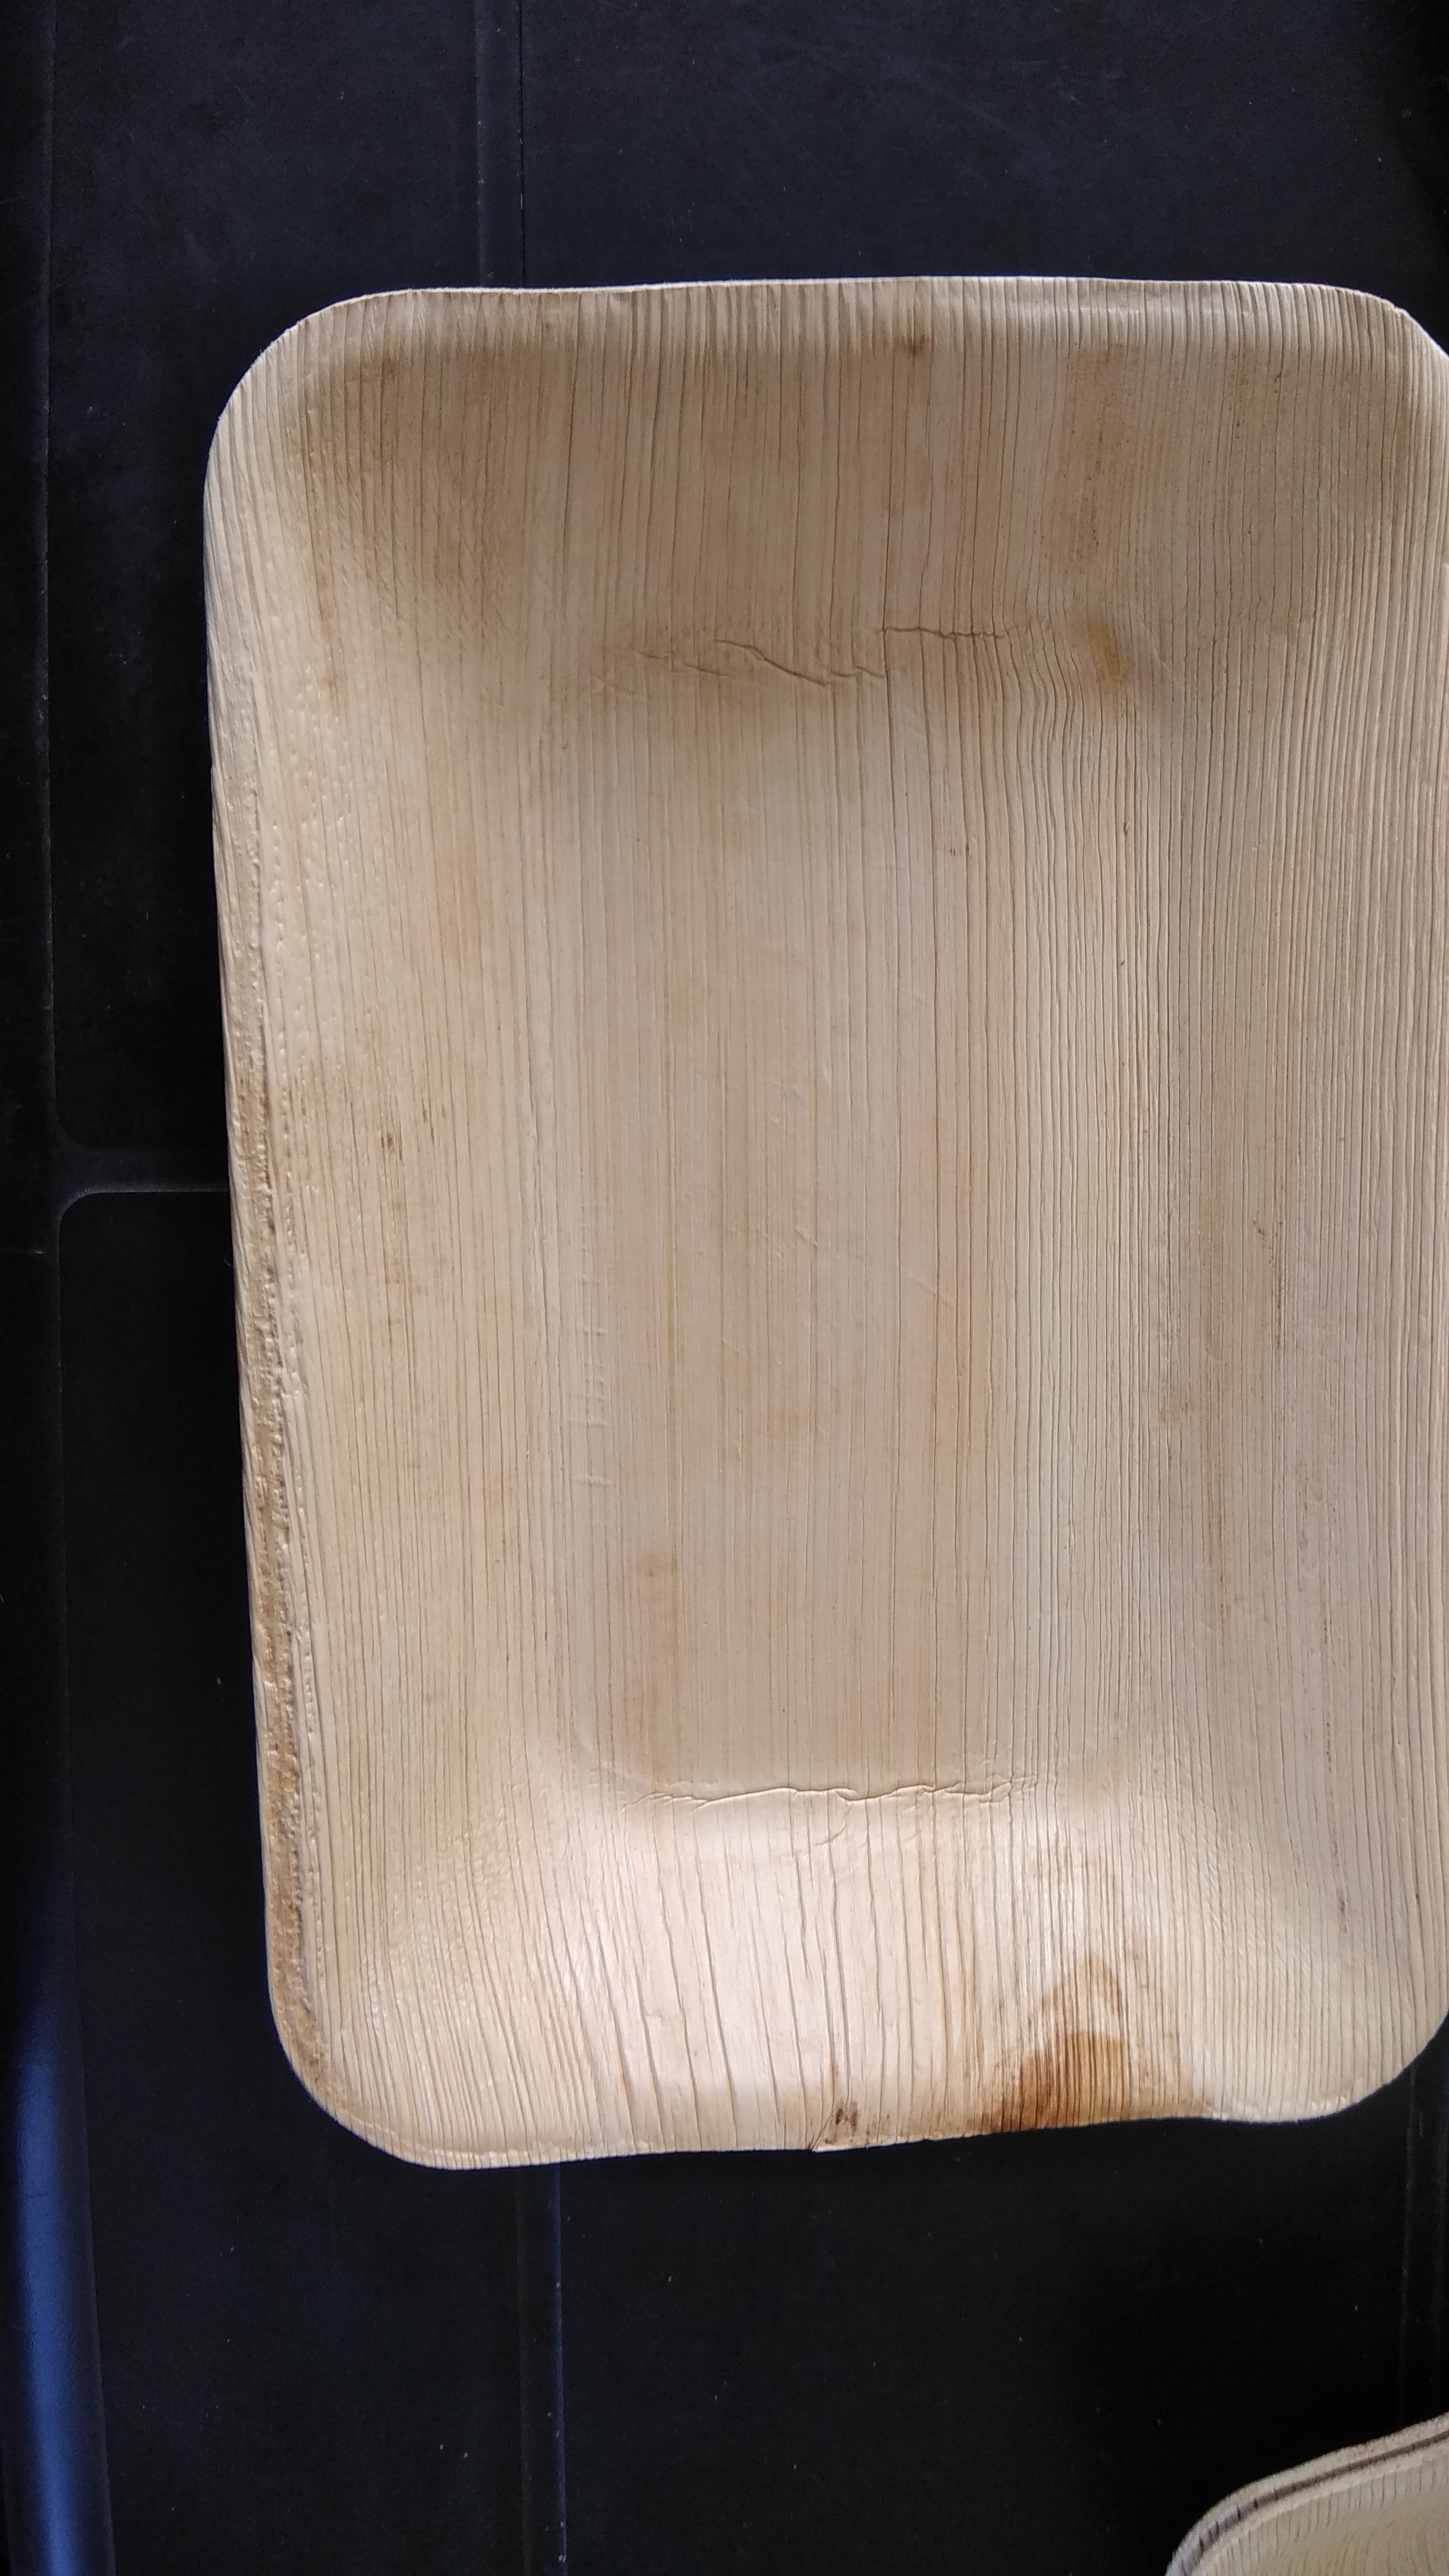areca plate: (207, 288, 1449, 2155)
